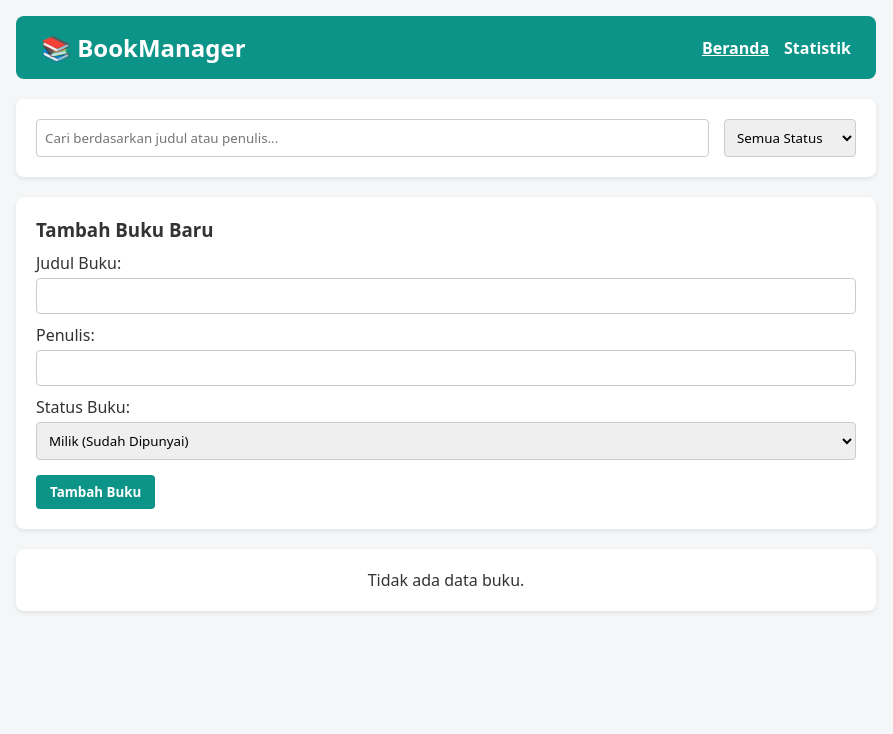
Aplikasi Manajemen Buku - Integration Testing › 3. Berhasil menambahkan buku baru ke dalam daftar
Type "Laskar Pelangi" into the field labelled "Judul Buku:" at (446, 296), box [36,278,856,314]
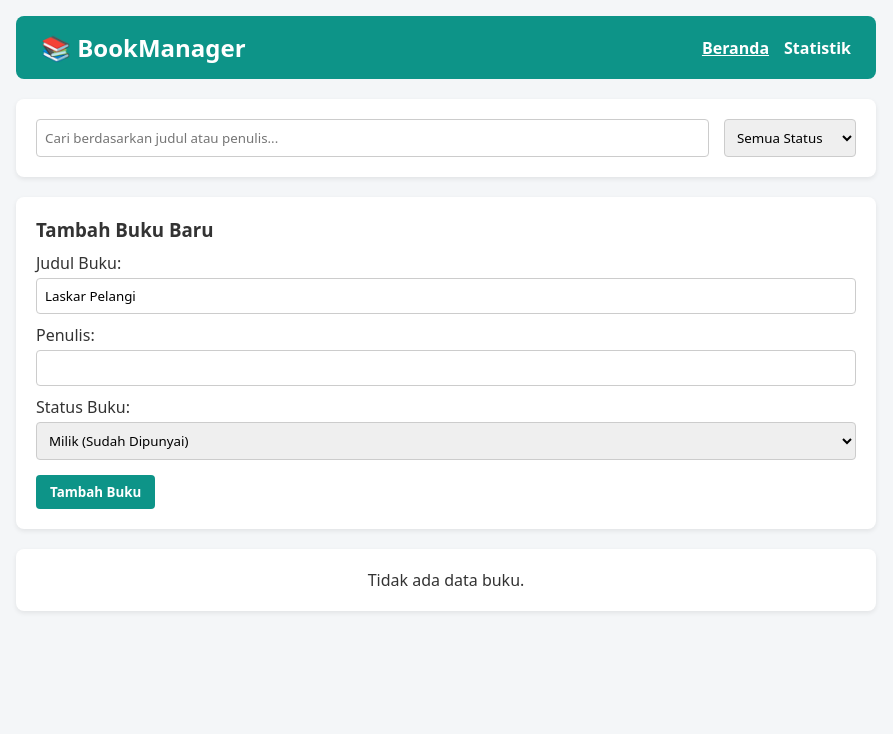
Type "Andrea Hirata" into the field labelled "Penulis:" at (446, 368), box [36,350,856,386]
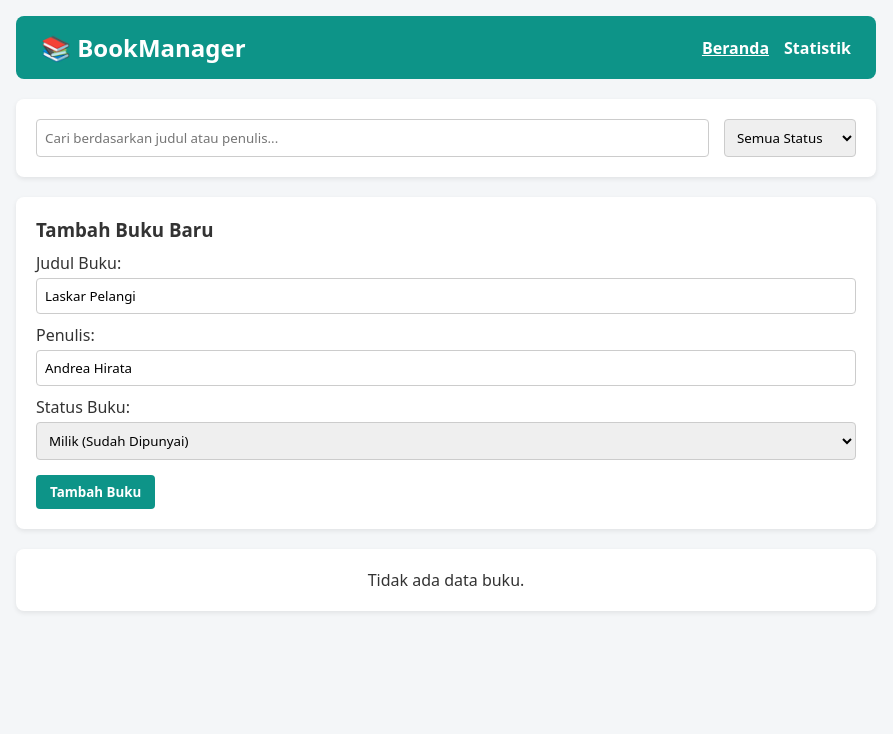
Click the button "Tambah Buku" at (96, 492), box [36,475,155,509]
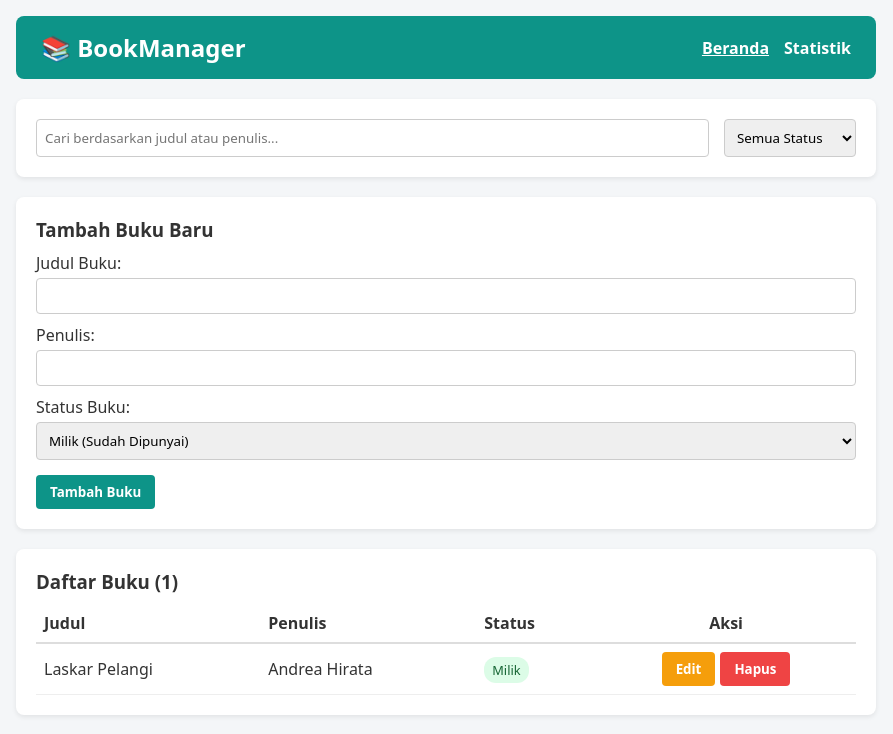
Expected: the text "Laskar Pelangi" is shown, [36,643,260,694]
Expected: the text "Andrea Hirata" is shown, [260,643,476,694]
